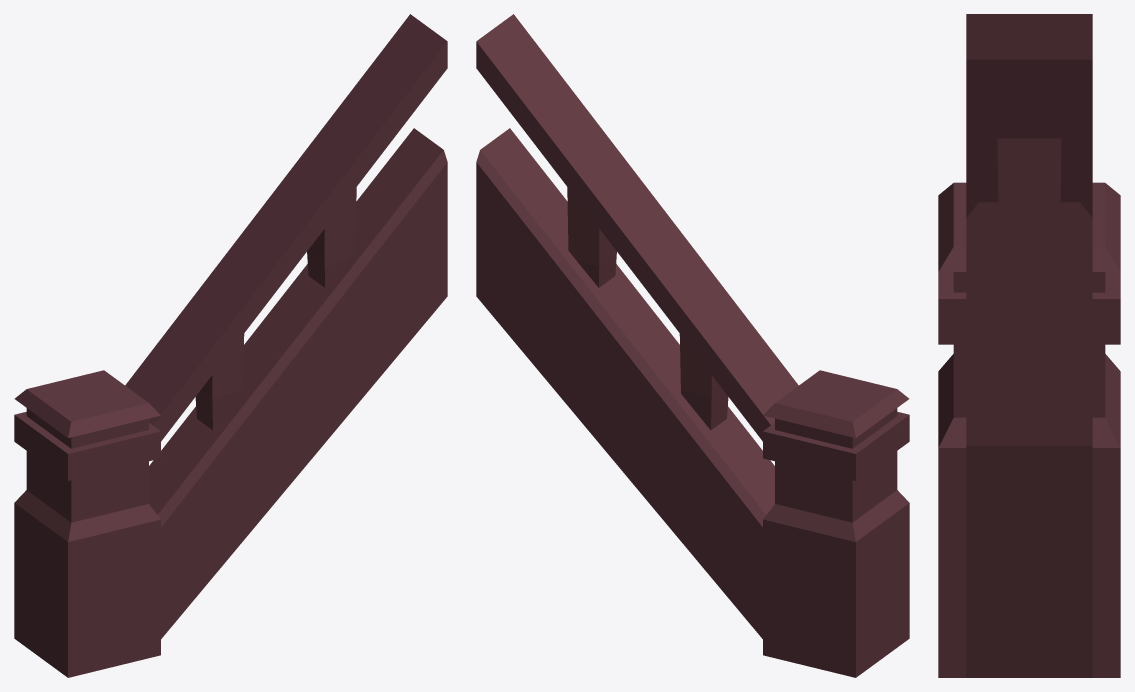
File: SM_Railing_Vertical_Empire.fbx
3 views of the same model, side by side, from view 1: azimuth 30°, elevation 25°; view 2: azimuth 150°, elevation 25°; view 3: azimuth 270°, elevation 25° (orthographic). The views are drawn at different scales.
Visible parts, largest first — view 1: SM_Railing_Vertical_Empire; view 2: SM_Railing_Vertical_Empire; view 3: SM_Railing_Vertical_Empire.
Part boxes in pixels (x1,y1,x2,y2): SM_Railing_Vertical_Empire: (14,14,447,677); SM_Railing_Vertical_Empire: (476,14,909,677); SM_Railing_Vertical_Empire: (938,14,1120,677).
Size of the model in its own units: 3 by 3.96 by 0.7206.
